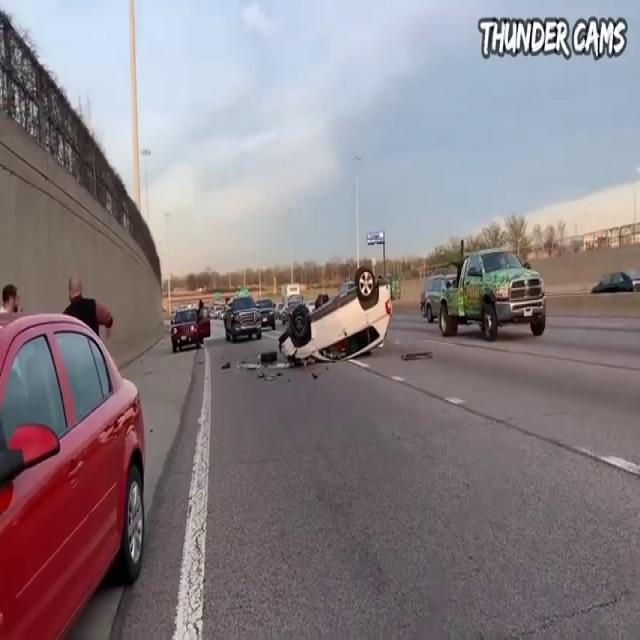accident: (273, 248, 398, 372)
